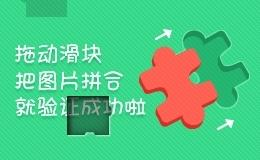target: (45, 74, 89, 116)
